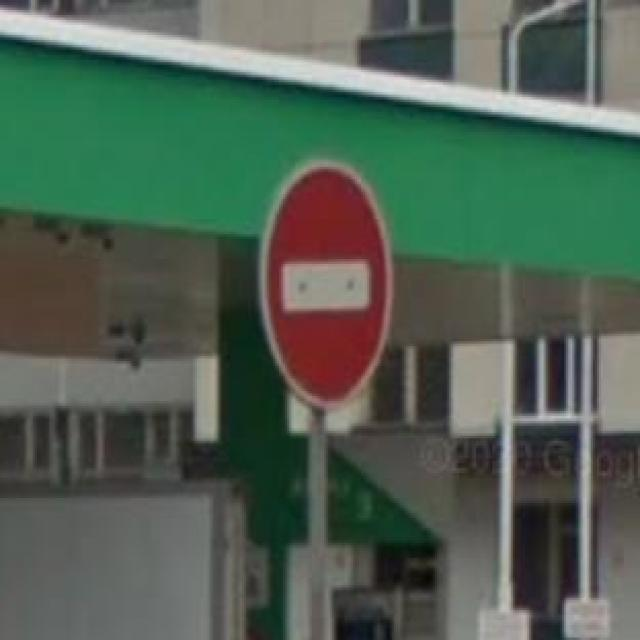do_not_enter: (258, 162, 394, 411)
